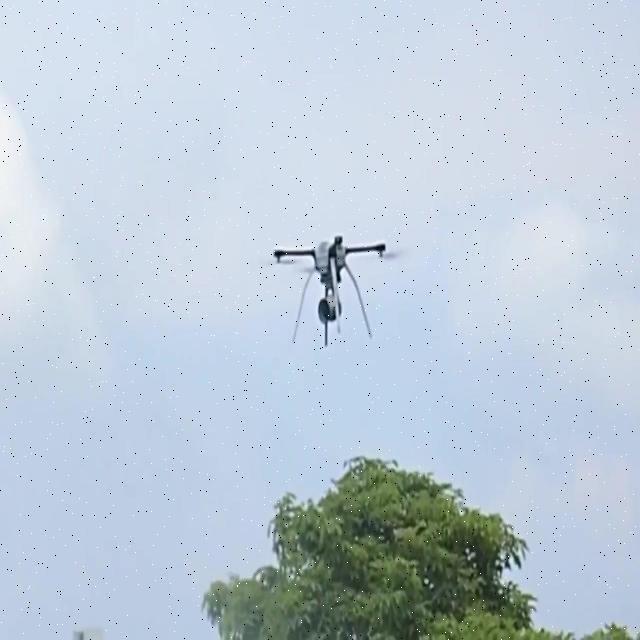UAV: (273, 235, 386, 346)
